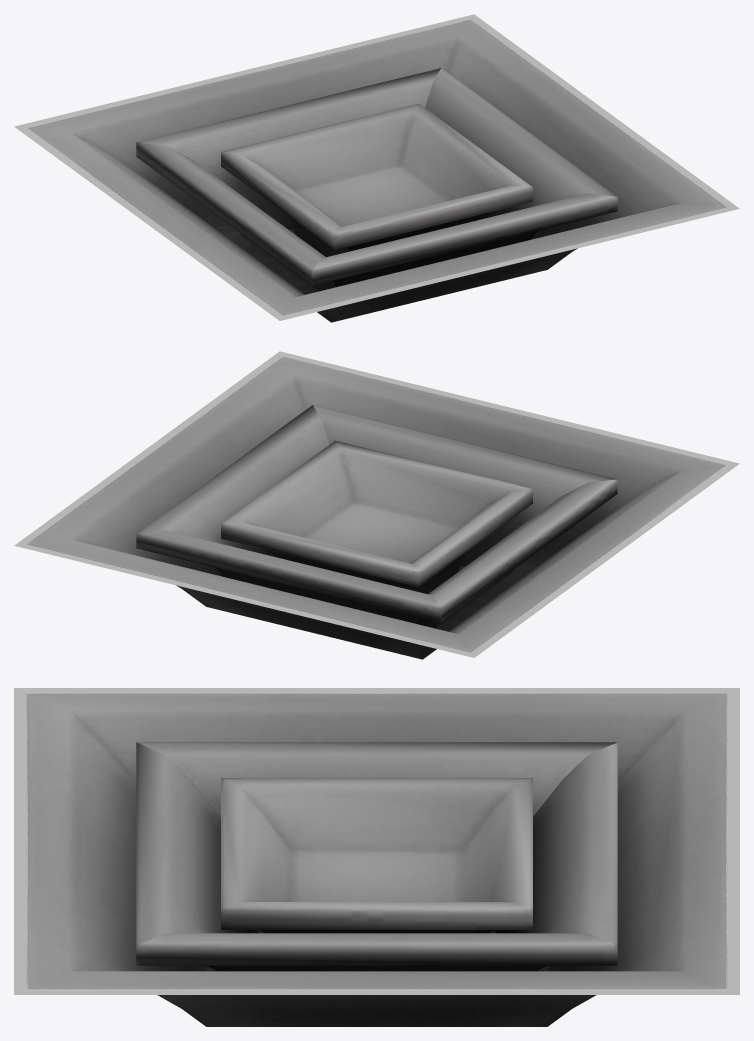
Rendered from air_vent_hospital.dae.
3 views of the same model, one above another, from view 1: azimuth 30°, elevation 25°; view 2: azimuth 150°, elevation 25°; view 3: azimuth 270°, elevation 25° (orthographic). The views are drawn at different scales.
Parts seen in each view (by area): view 1: low, roof; view 2: low, roof; view 3: low, roof.
Boxes of the visible parts, bbox=[...] form: low: bbox=[28, 19, 726, 322]; roof: bbox=[14, 14, 739, 320]; low: bbox=[27, 356, 725, 659]; roof: bbox=[14, 351, 739, 657]; low: bbox=[26, 693, 727, 1026]; roof: bbox=[14, 688, 739, 994].
Size of the model in its own units: 1 by 0.1892 by 1.
